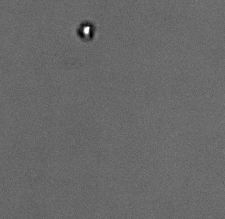Living Cell: (77, 21, 94, 41)
